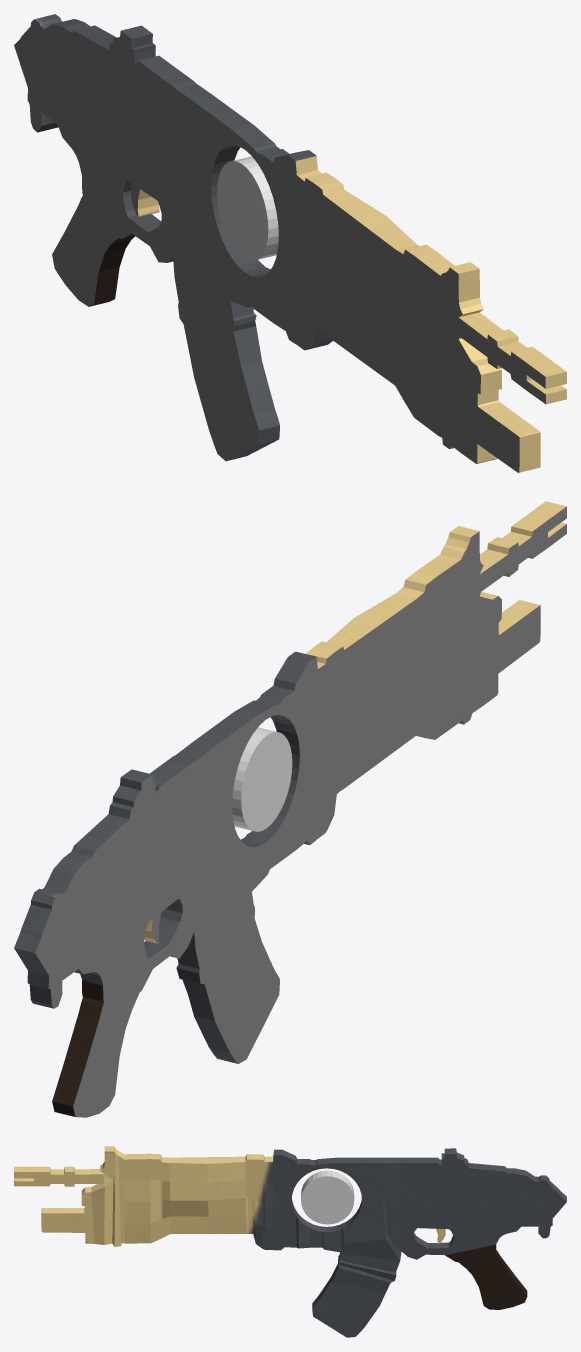
File: sci-fi assault rifle.fbx
3 renders of one model, top to bottom at view 1: azimuth 30°, elevation 25°; view 2: azimuth 150°, elevation 25°; view 3: azimuth 270°, elevation 25°, orthographic. The views are drawn at different scales.
Parts seen in each view (by area): view 1: Plane, Cylinder; view 2: Plane, Cylinder; view 3: Plane, Cylinder.
Part boxes in pixels (left/top/right/bottom): Plane: left=14, top=14, right=566, bottom=472; Cylinder: left=217, top=156, right=278, bottom=260; Plane: left=14, top=501, right=566, bottom=1117; Cylinder: left=232, top=727, right=292, bottom=831; Plane: left=14, top=1146, right=566, bottom=1337; Cylinder: left=301, top=1170, right=354, bottom=1224.
Size of the model in its own units: 16.07 by 175 by 471.
1 material, 1 textured.
